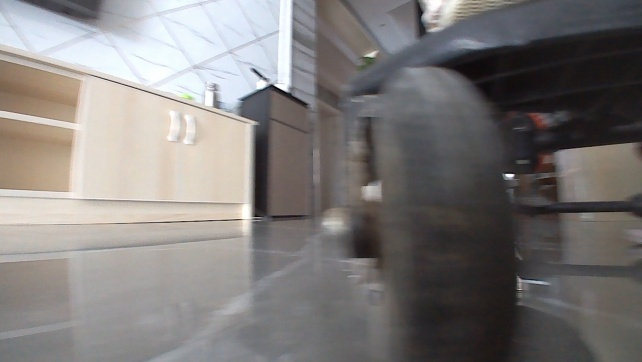TV_stand1: (0, 43, 260, 226)
refrigerator: (257, 82, 315, 223)
